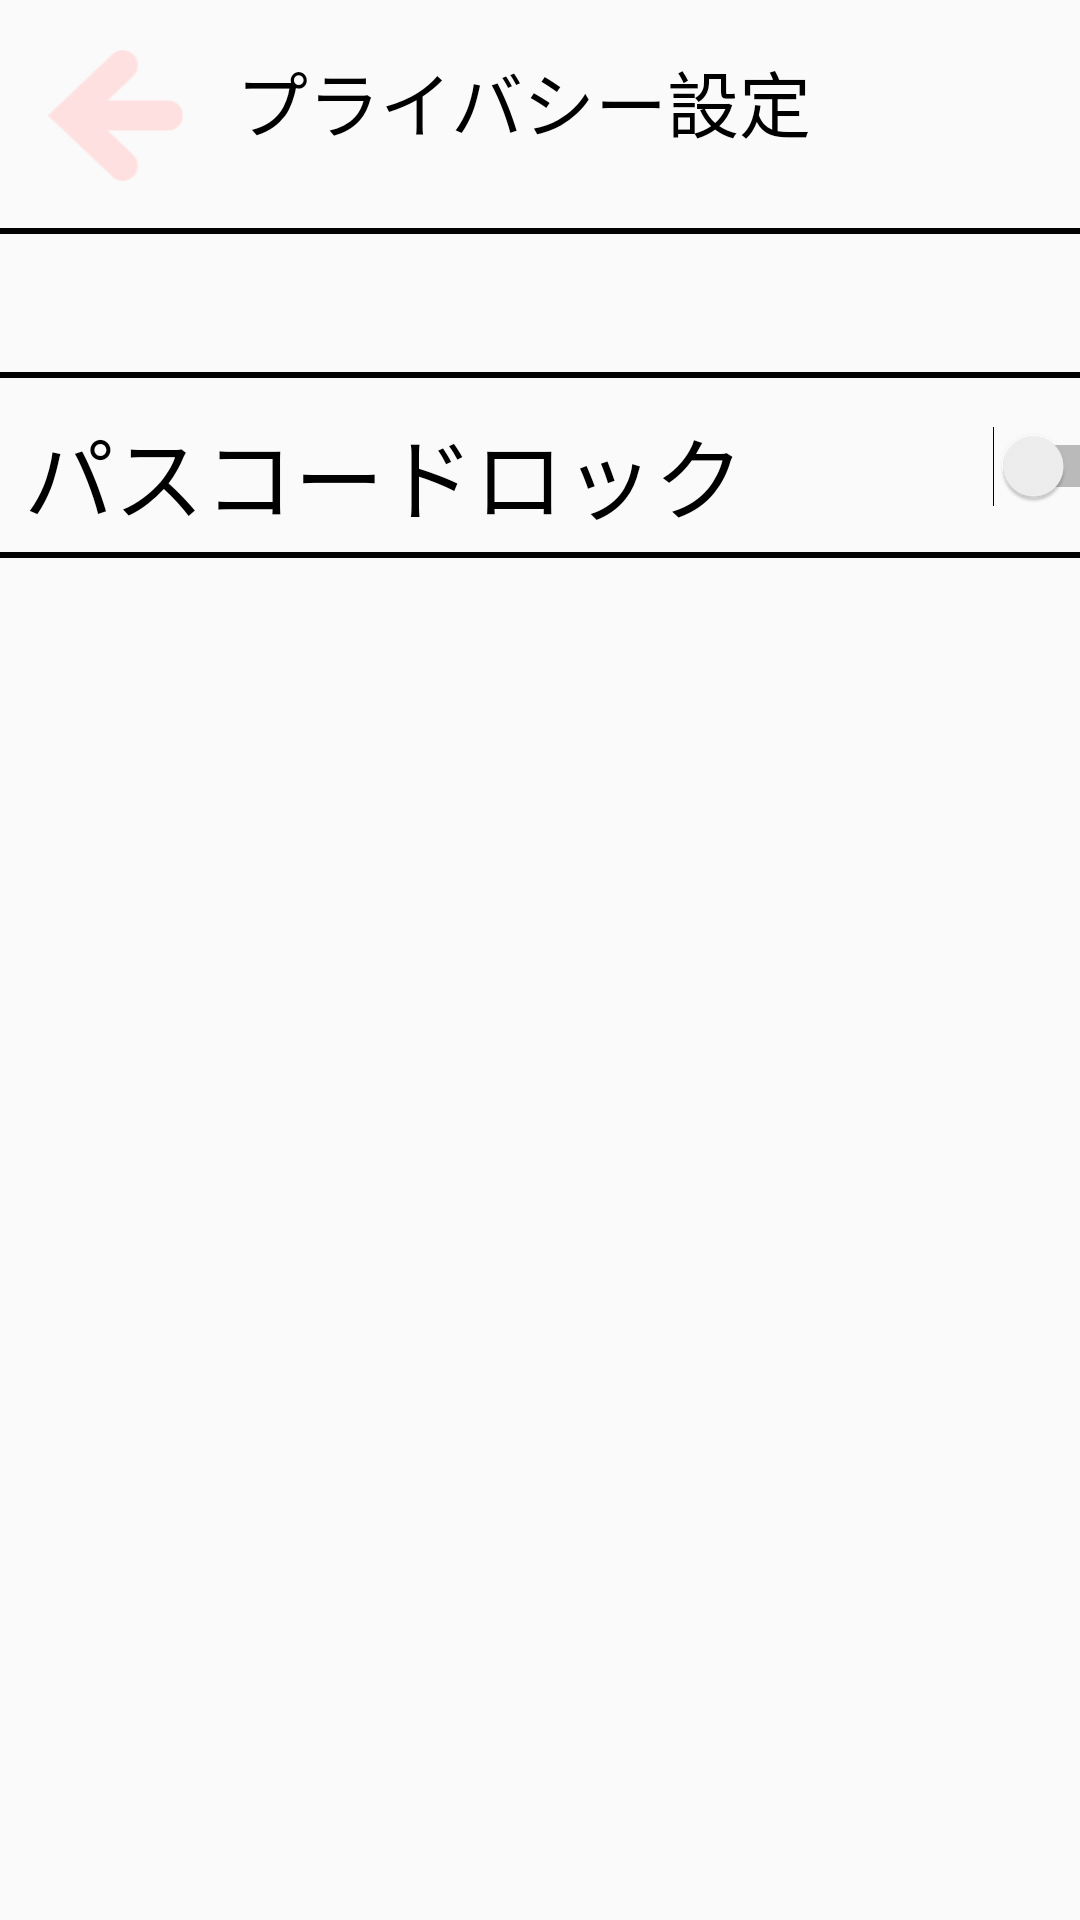

Screen size 1080px x 1920px. Icon name, then its box in pixels as (x1, y1, x2, y2):
backbtn: (50, 51, 182, 180)
